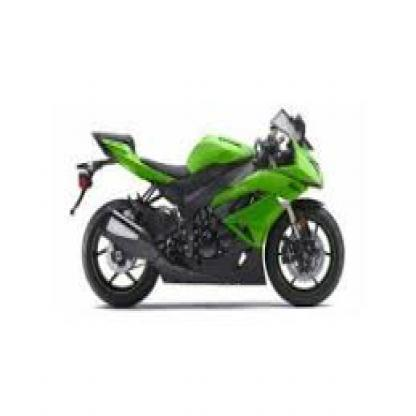Motorcycle: (69, 96, 357, 314)
